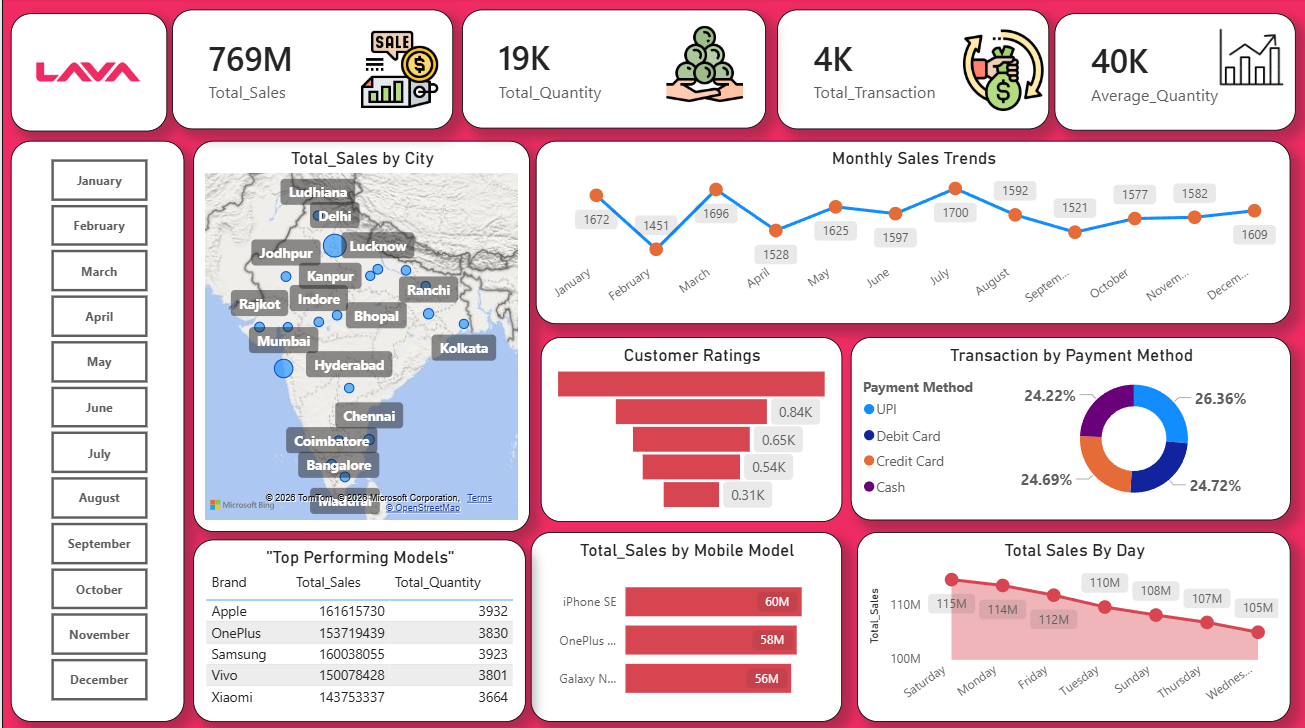

The dashboard page shown, as its layout file describes it:
{"tool":"powerbi","page":{"name":"Page 1","canvas":[1280,720],"ordinal":0},"visuals":[{"type":"shape","box":[8.4,15.7,153.2,115.8],"z":0},{"type":"image","box":[16,25.8,137.4,95.7],"z":1000},{"type":"shape","box":[8.4,141.2,170.1,570.6],"z":2000},{"type":"slicer","fields":{"Values":["Sheet1.Date.Variation.Date Hierarchy.Month"]},"box":[21.7,152,144.8,545.3],"z":3000},{"type":"map","fields":{"Category":["Sheet1.City"],"Size":["Sheet1.Total_Sales"]},"box":[188,141.3,330.7,384.2],"z":4000},{"type":"cardVisual","fields":{"Data":["Sheet1.Total_Sales"]},"box":[166.9,12.3,276.1,117.8],"z":5000},{"type":"cardVisual","fields":{"Data":["Sheet1.Transaction"]},"box":[760.7,12.3,267.5,117.8],"z":6000},{"type":"cardVisual","fields":{"Data":["Sheet1.Total_Quantity"]},"box":[451.5,12.3,298.2,116.6],"z":7000},{"type":"cardVisual","fields":{"Data":["Sheet1.Average_Quantity"]},"box":[1033.1,16,236.8,115.3],"z":8000},{"type":"image","box":[305.5,31.9,169.3,78.5],"z":9000},{"type":"image","box":[568.1,25.8,242.9,79.8],"z":10000},{"type":"image","box":[894.5,31.9,176.7,79.8],"z":11000},{"type":"image","box":[1174.2,25.8,105.5,66.3],"z":12000},{"type":"lineChart","title":"Monthly Sales Trends","fields":{"Y":["Sheet1.Total_Quantity"],"Category":["Sheet1.Date.Variation.Date Hierarchy.Month","Sheet1.Date.Variation.Date Hierarchy.Day"]},"box":[524.2,141.3,741,179.8],"z":13000},{"type":"clusteredBarChart","fields":{"Category":["Sheet1.Mobile Model"],"Y":["Sheet1.Total_Sales"]},"box":[519,525.2,305.5,186.5],"z":14000},{"type":"donutChart","fields":{"Category":["Sheet1.Payment Method"],"Y":["Sheet1.Transaction"]},"box":[833.1,333.7,431.9,180.4],"z":15000},{"type":"funnel","title":"Customer Ratings","fields":{"Category":["Sheet1.Customer Ratings"],"Y":["CountNonNull(Sheet1.Customer Ratings)"]},"box":[528.8,333.7,295.7,181.6],"z":16000},{"type":"areaChart","title":"Total Sales By Day","fields":{"Y":["Sheet1.Total_Sales"],"Category":["Sheet1.Day Name"]},"box":[839.3,525.2,425.8,186.5],"z":17000},{"type":"tableEx","title":"\"Top Performing Models\"","fields":{"Values":["Sheet1.Brand","Sheet1.Total_Sales","Sheet1.Total_Quantity"]},"box":[187.7,532.5,326.4,179.1],"z":18000}]}

Visuals, with their boxes in screenshot pixels (x1, y1, x2, y2), scaled from the page's 1280x720 canvas onto the 1305x728 screenshot:
shape: [9, 16, 165, 133]
image: [16, 26, 156, 123]
shape: [9, 143, 182, 720]
slicer - Sheet1.Date.Variation.Date Hierarchy.Month: [22, 154, 170, 705]
map - Sheet1.City x Sheet1.Total_Sales: [192, 143, 529, 531]
cardVisual - Sheet1.Total_Sales: [170, 12, 452, 132]
cardVisual - Sheet1.Transaction: [776, 12, 1048, 132]
cardVisual - Sheet1.Total_Quantity: [460, 12, 764, 130]
cardVisual - Sheet1.Average_Quantity: [1053, 16, 1295, 133]
image: [311, 32, 484, 112]
image: [579, 26, 827, 107]
image: [912, 32, 1092, 113]
image: [1197, 26, 1304, 93]
"Monthly Sales Trends" lineChart: [534, 143, 1290, 325]
clusteredBarChart - Sheet1.Mobile Model x Sheet1.Total_Sales: [529, 531, 841, 720]
donutChart - Sheet1.Payment Method x Sheet1.Transaction: [849, 337, 1290, 520]
"Customer Ratings" funnel: [539, 337, 841, 521]
"Total Sales By Day" areaChart: [856, 531, 1290, 720]
""Top Performing Models"" tableEx: [191, 538, 524, 720]
